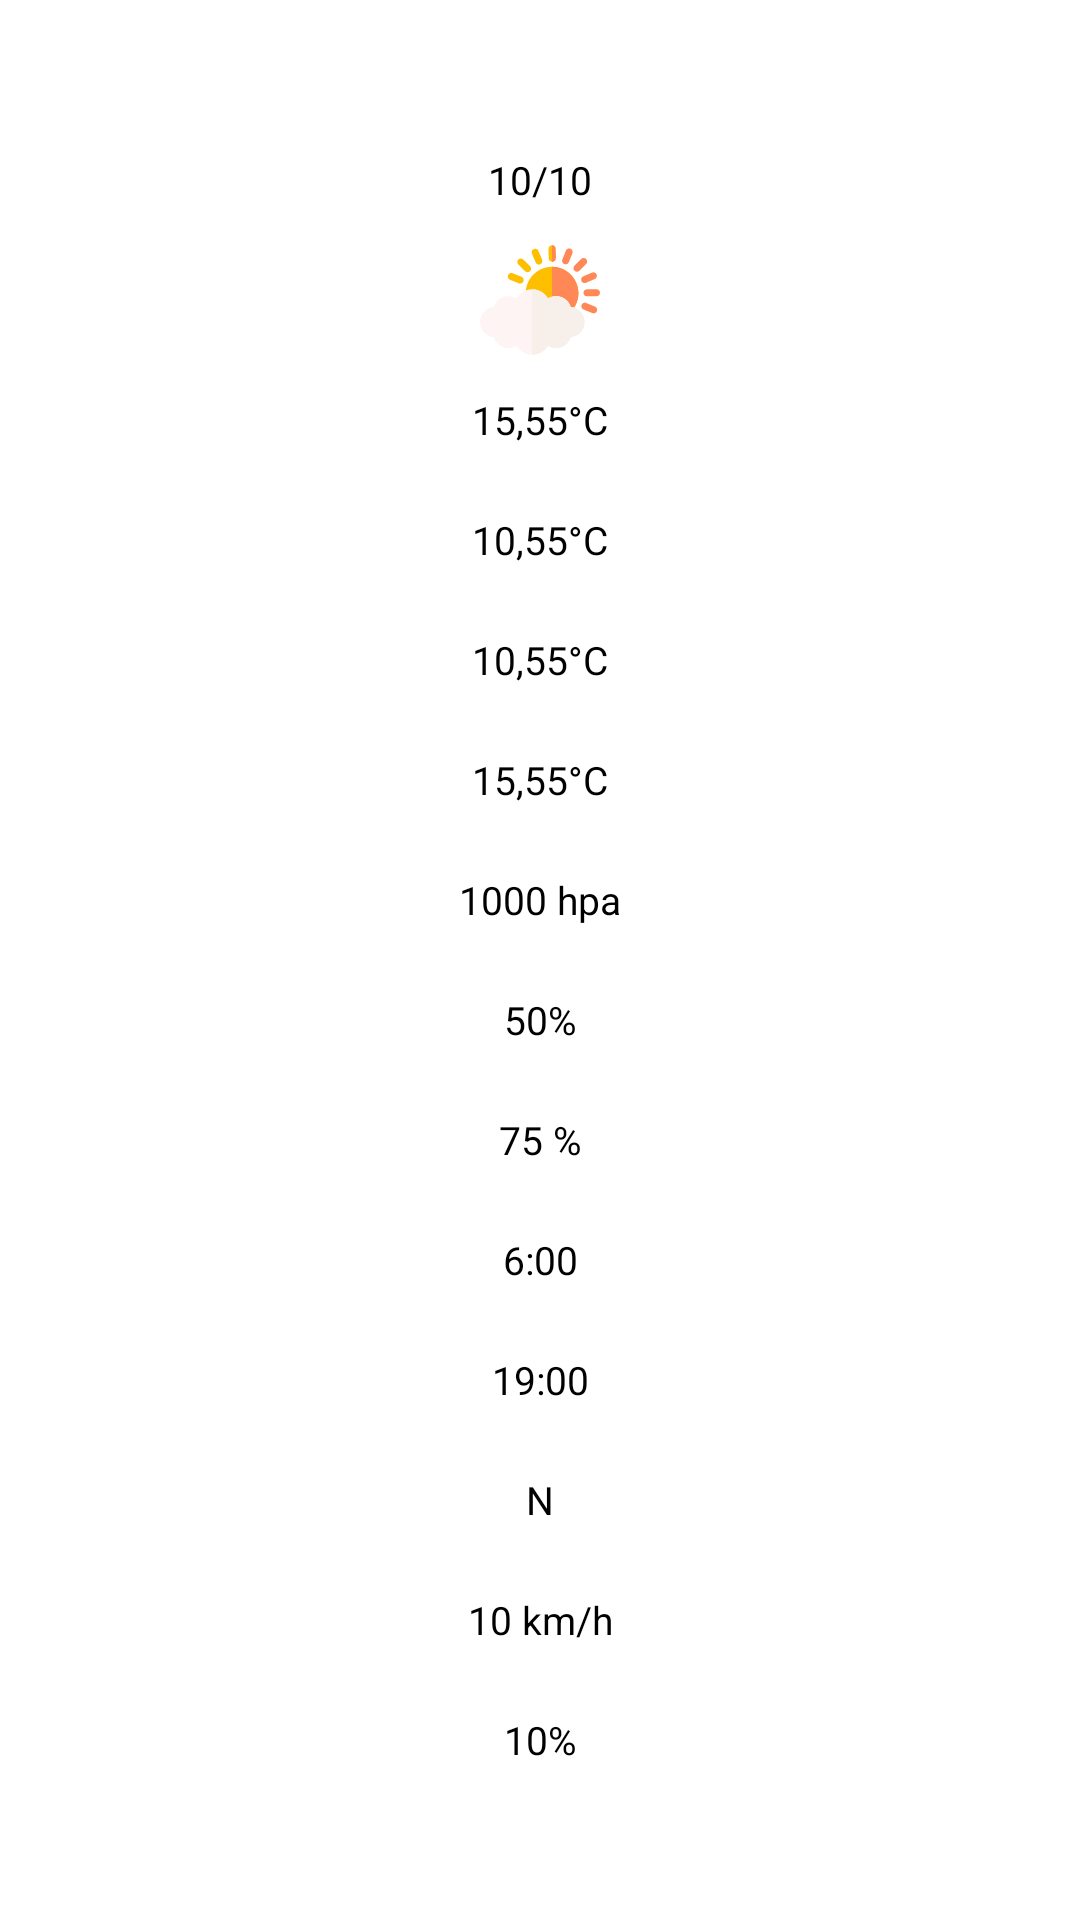

Locate icon controls on the screen. Image size 1080 × 1920, boxes as (x1, y1, x2, y2).
clouds and sun: (507, 245, 600, 314)
